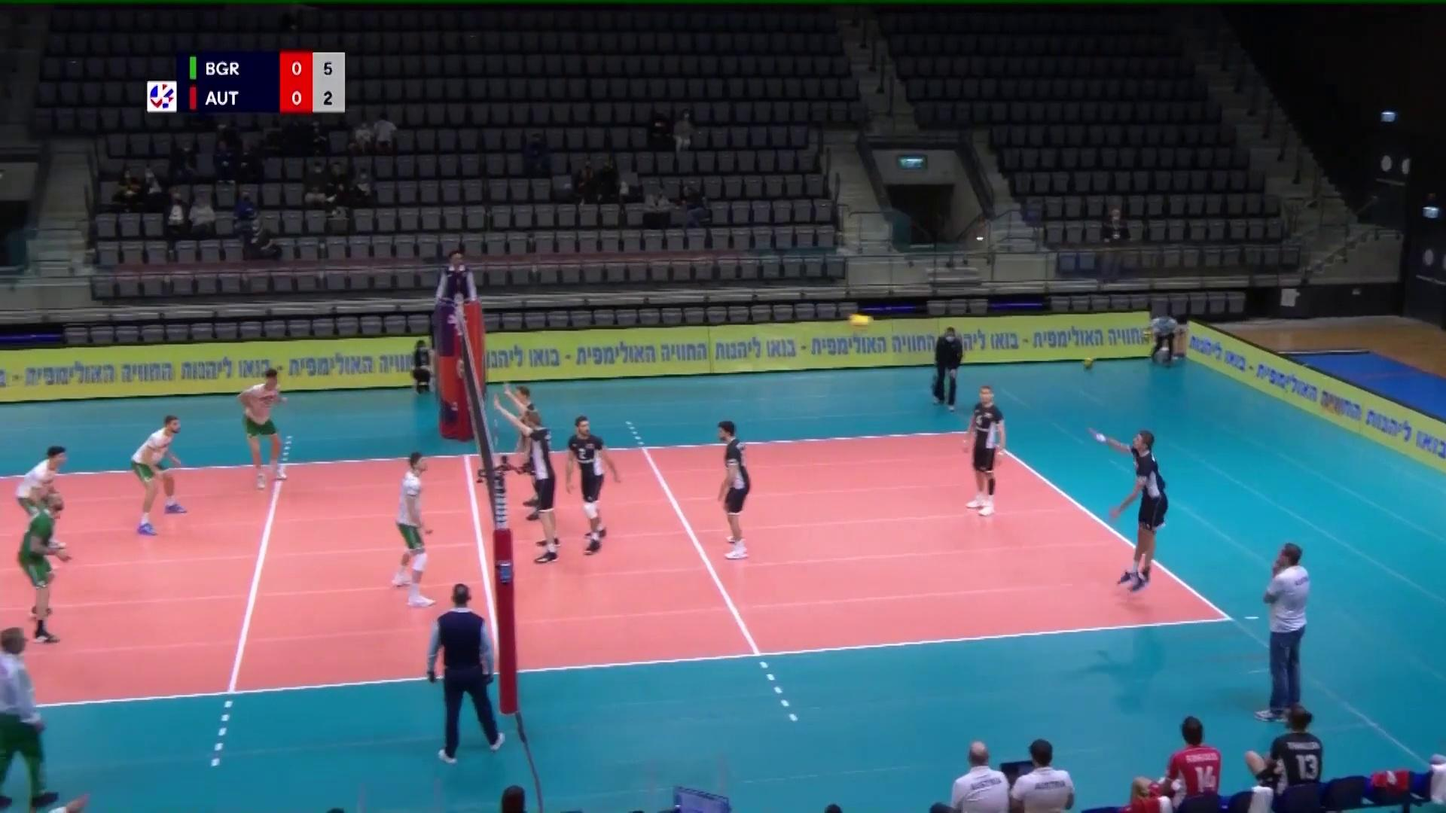ball: (847, 314, 876, 330)
